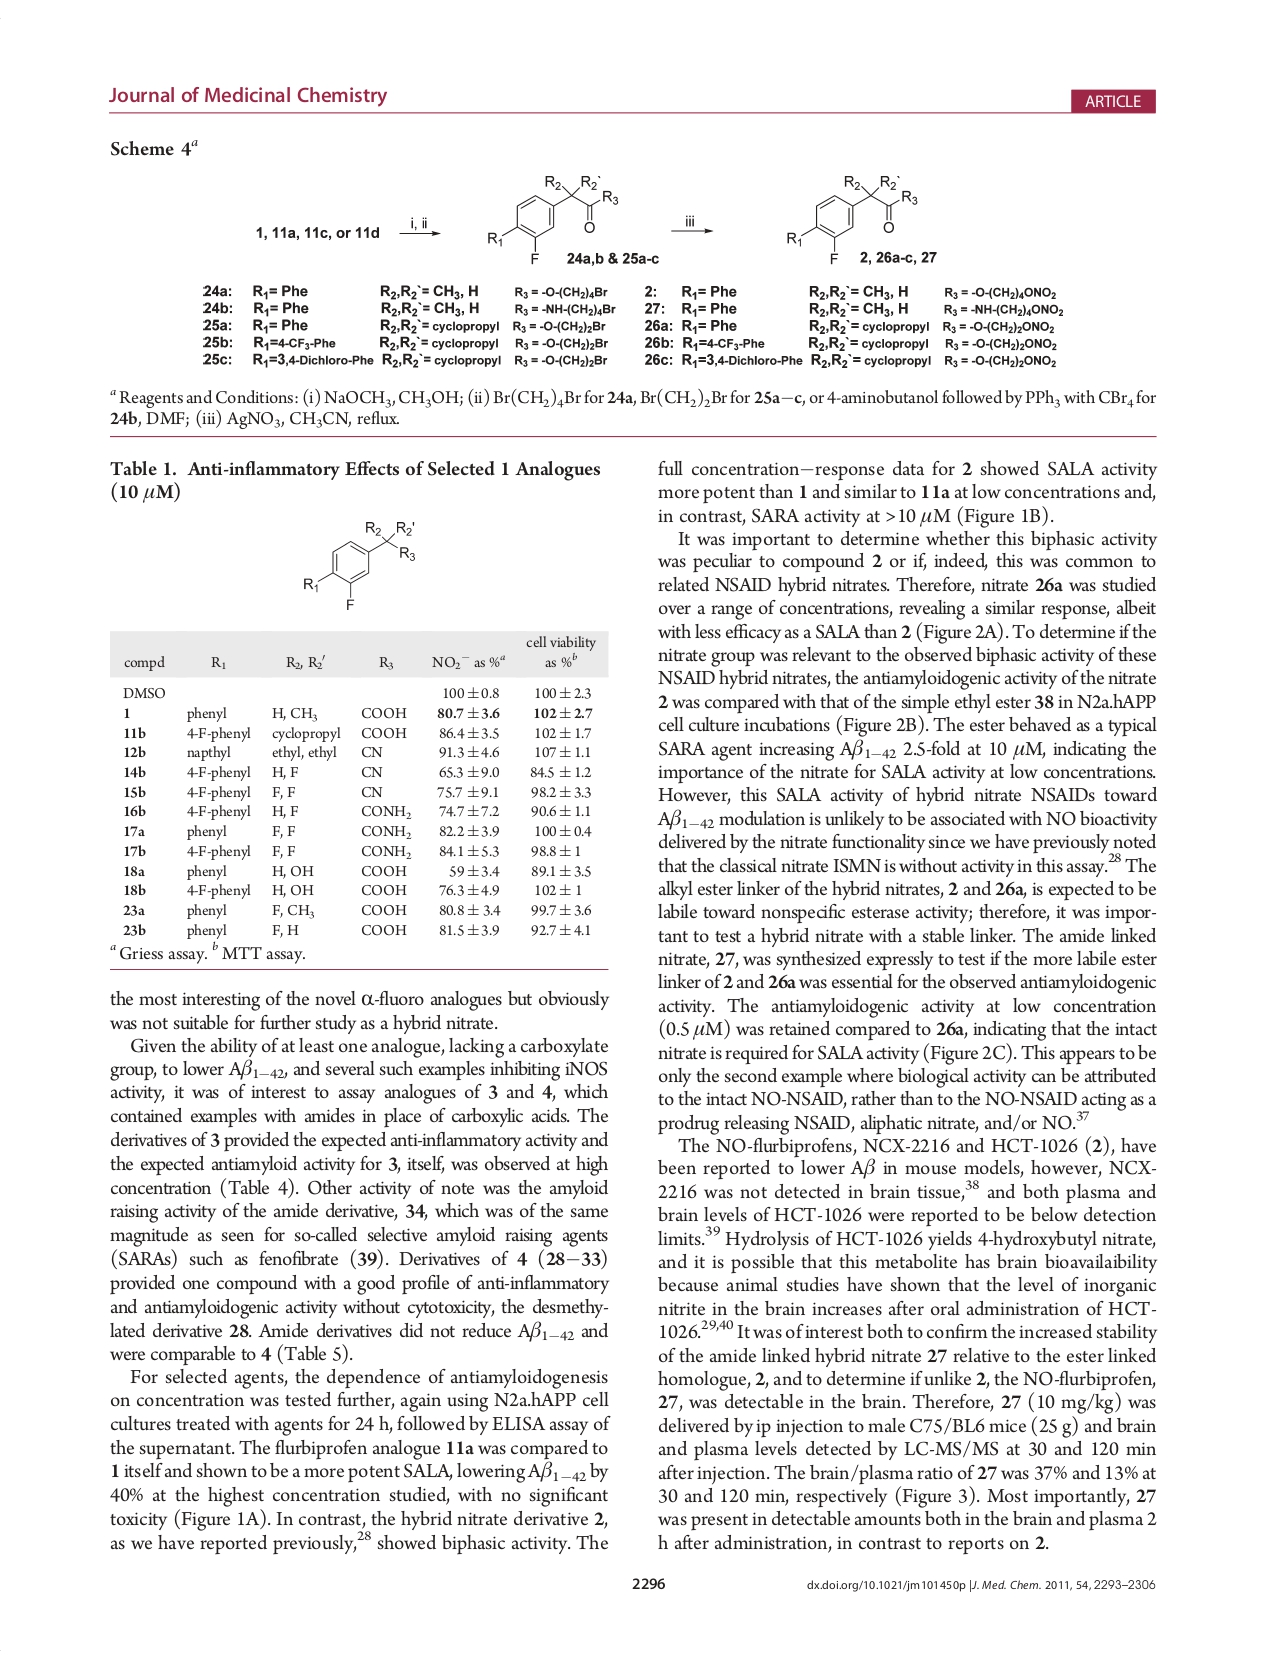exist_molecular: (785, 169, 922, 265), (297, 512, 419, 616), (485, 170, 618, 265)
